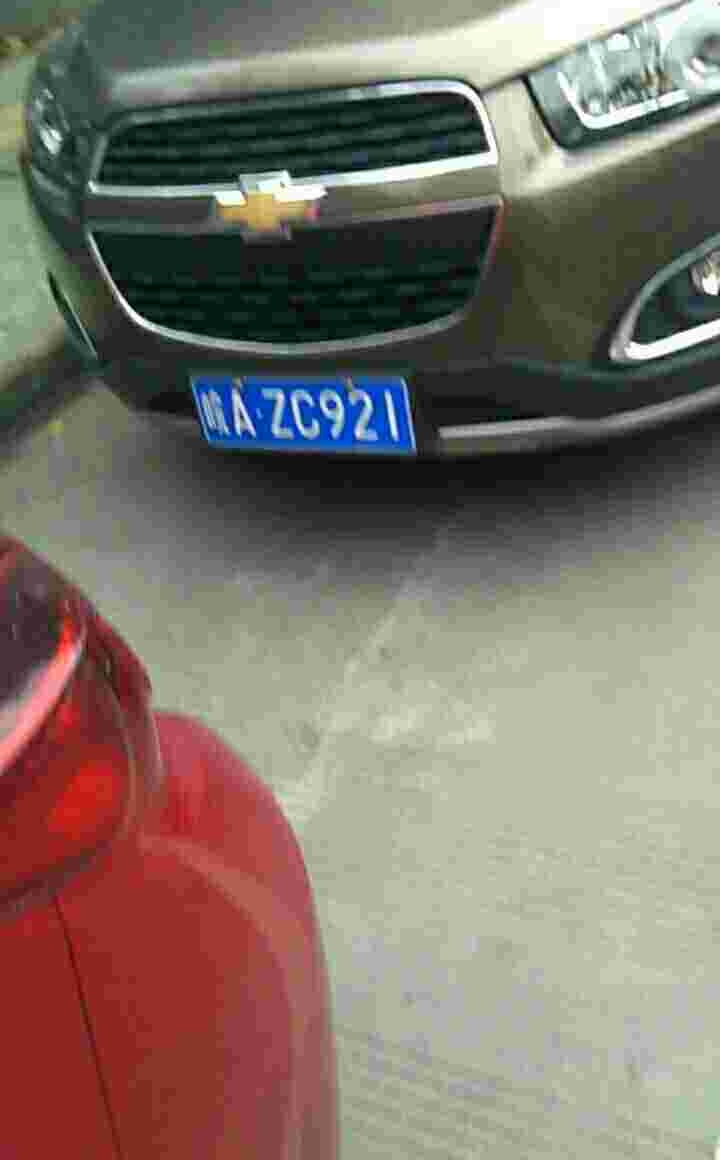plate: (185, 373, 425, 454)
